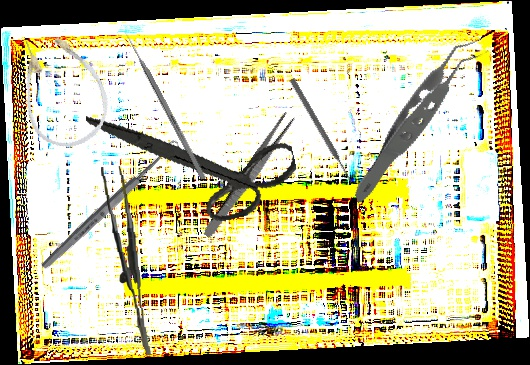Cannula: (5, 21, 119, 157)
Dressing Forceps: (201, 109, 297, 242)
Iris Scissors: (85, 72, 305, 247)
Pusher: (122, 29, 207, 181), (288, 77, 355, 185)
Surgical Spoon: (38, 137, 182, 273)
Tissue Forceps: (316, 34, 525, 206), (101, 165, 151, 357)
